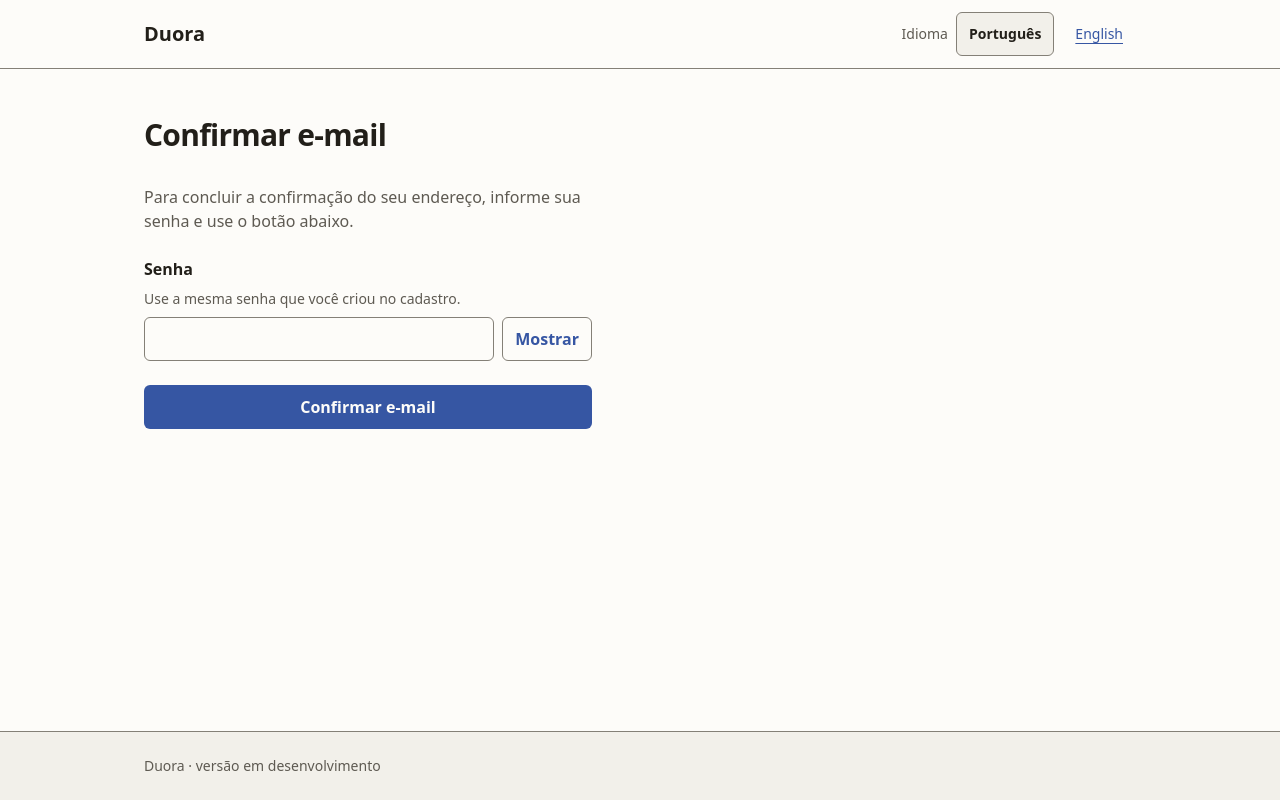
Test case: tela de confirmação de e-mail › confirma com userId, token e a senha colada, com CSRF
The width and height of the screenshot is (1280, 800).
Click the password field labelled "Senha" at [319, 339], box x1=144 y1=317 x2=494 y2=361
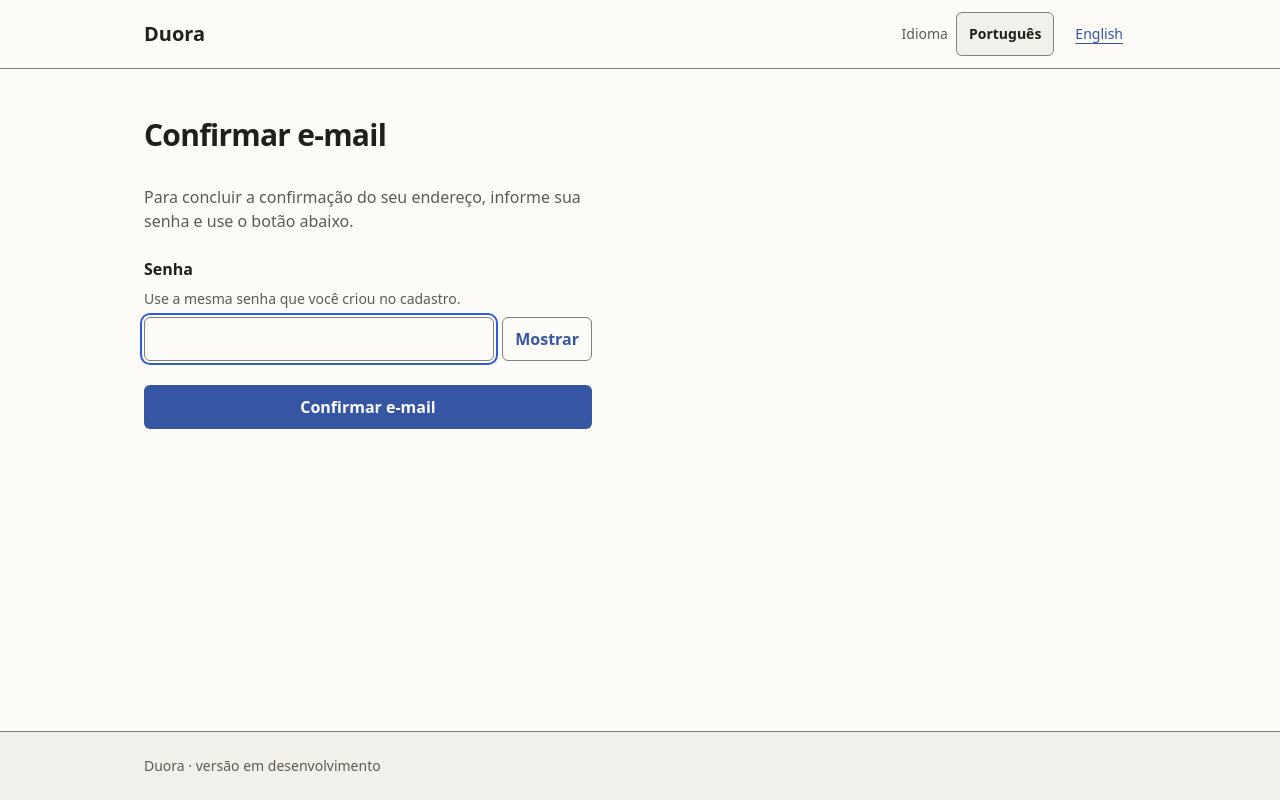
Type keys "frase longa do cadastro"
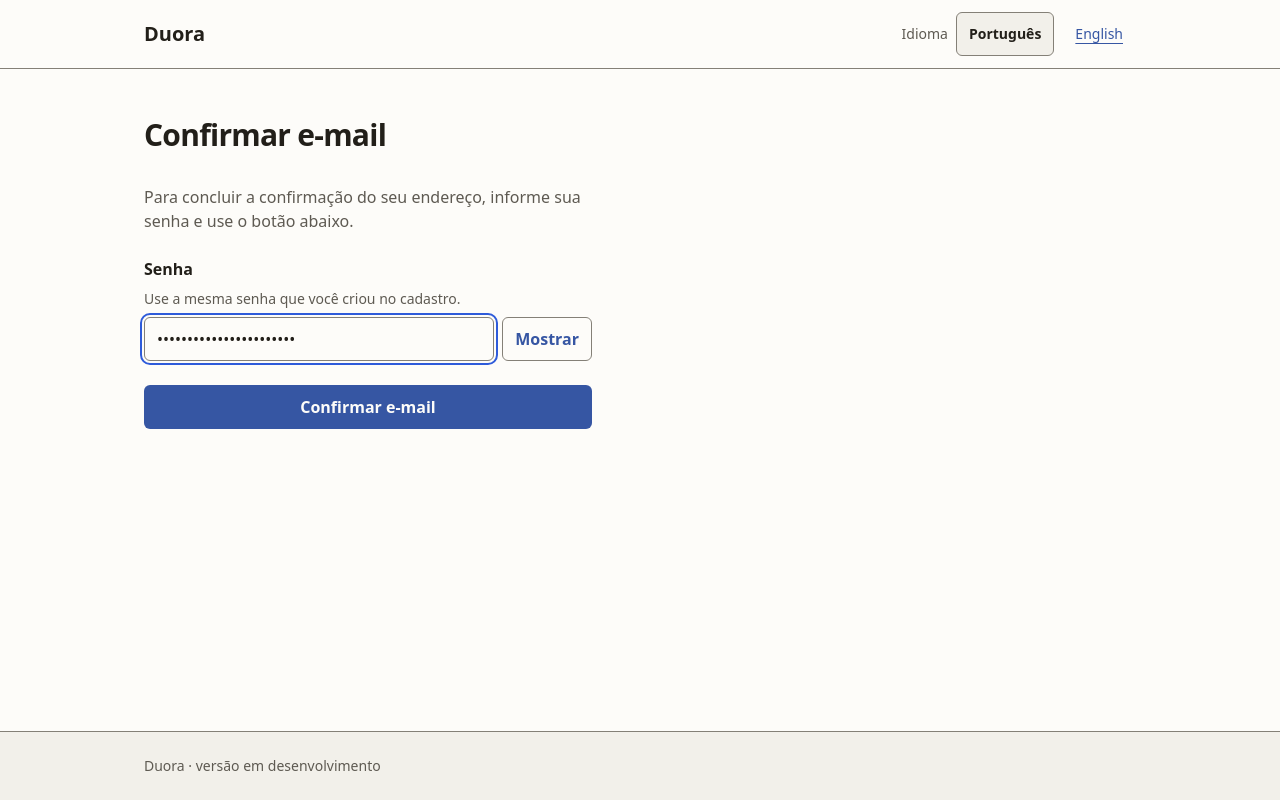
Click the button "Confirmar e-mail" at [368, 407], box x1=144 y1=385 x2=592 y2=429
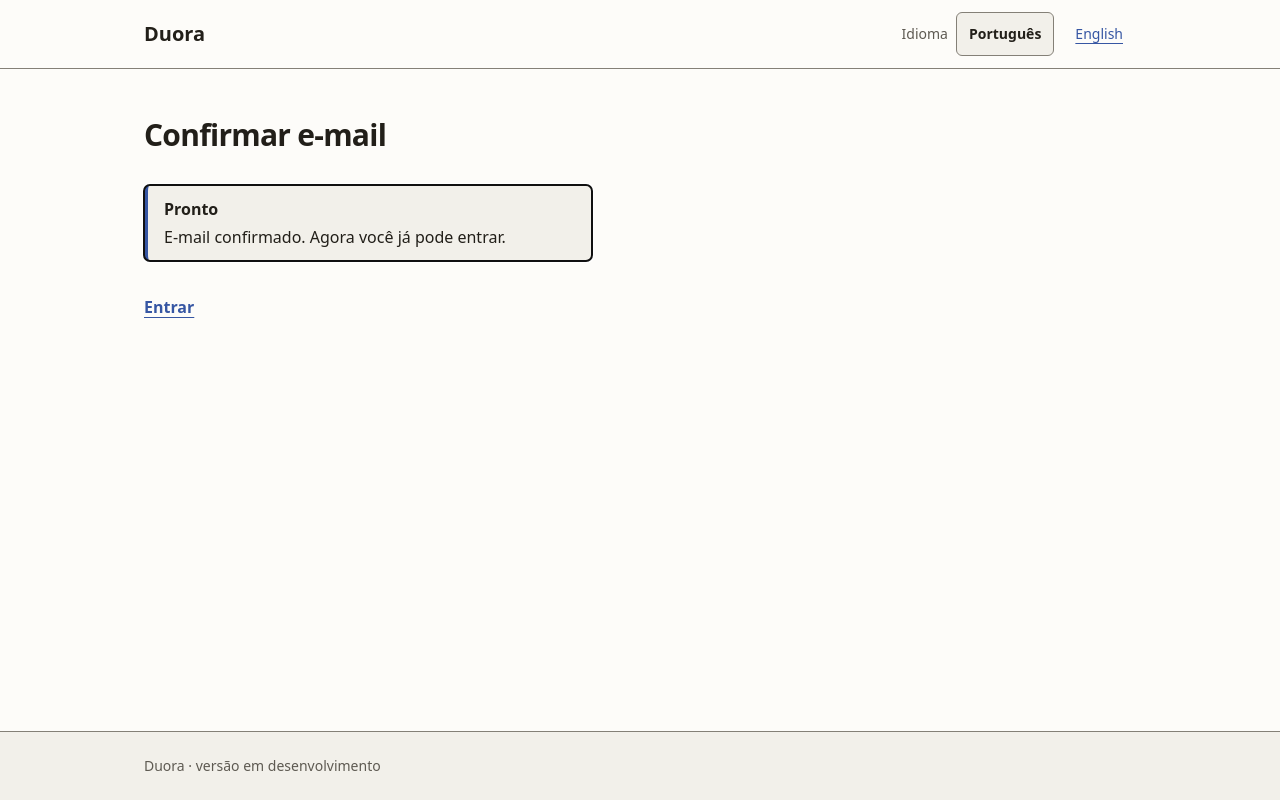
Expected: the message shows "E-mail confirmado.", x1=164 y1=226 x2=506 y2=248
